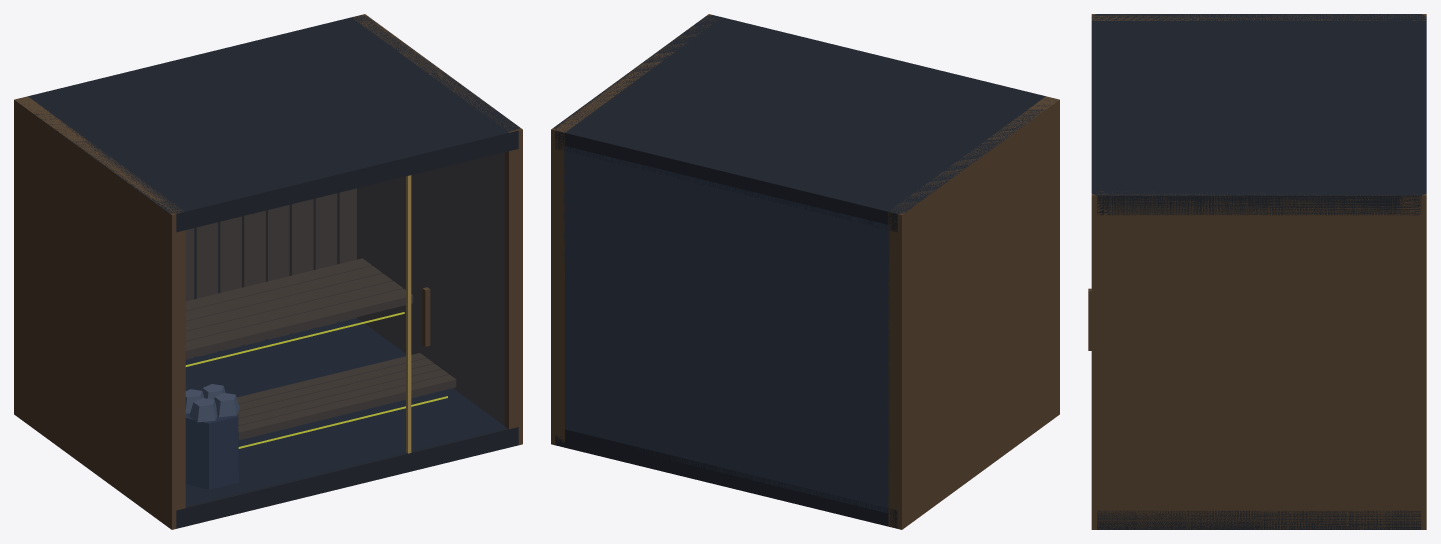
The model's file is res_sauna_cabin.glb.
3 renders of one model, left to right at view 1: azimuth 30°, elevation 25°; view 2: azimuth 150°, elevation 25°; view 3: azimuth 270°, elevation 25°, orthographic. The views are drawn at different scales.
Visible parts, largest first — view 1: cedar_back_batten, cabinet_cap, sauna_glazing, bench_apron, glass_door_stile, basalt_stone, bench_underglow; view 2: bench_apron, cabinet_cap, cedar_back_batten; view 3: cedar_back_batten, cabinet_cap.
Part boxes in pixels (x1,y1,x2,y2): cedar_back_batten: [14, 14, 522, 529]; cabinet_cap: [20, 15, 519, 528]; sauna_glazing: [186, 152, 504, 505]; bench_apron: [185, 194, 337, 489]; glass_door_stile: [406, 175, 411, 453]; basalt_stone: [185, 384, 239, 422]; bench_underglow: [185, 312, 447, 448]; bench_apron: [563, 146, 889, 513]; cabinet_cap: [554, 15, 1056, 528]; cedar_back_batten: [551, 14, 1059, 529]; cedar_back_batten: [1088, 14, 1426, 529]; cabinet_cap: [1091, 14, 1426, 529].
Bounding box in the file's own units: 2.8 × 2.4 × 2.2.
